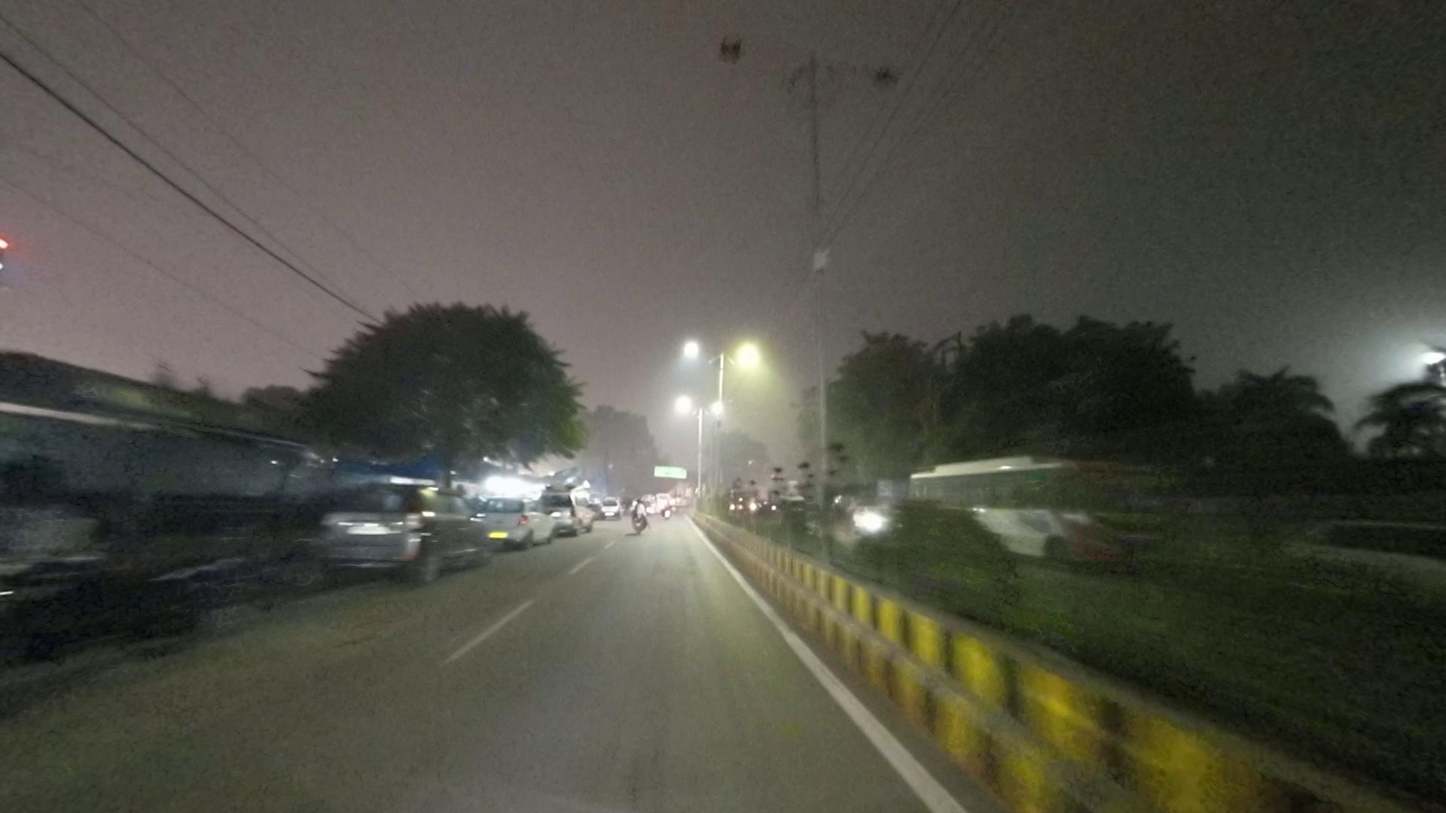streetlight: (818, 52, 902, 91), (715, 32, 804, 66)
